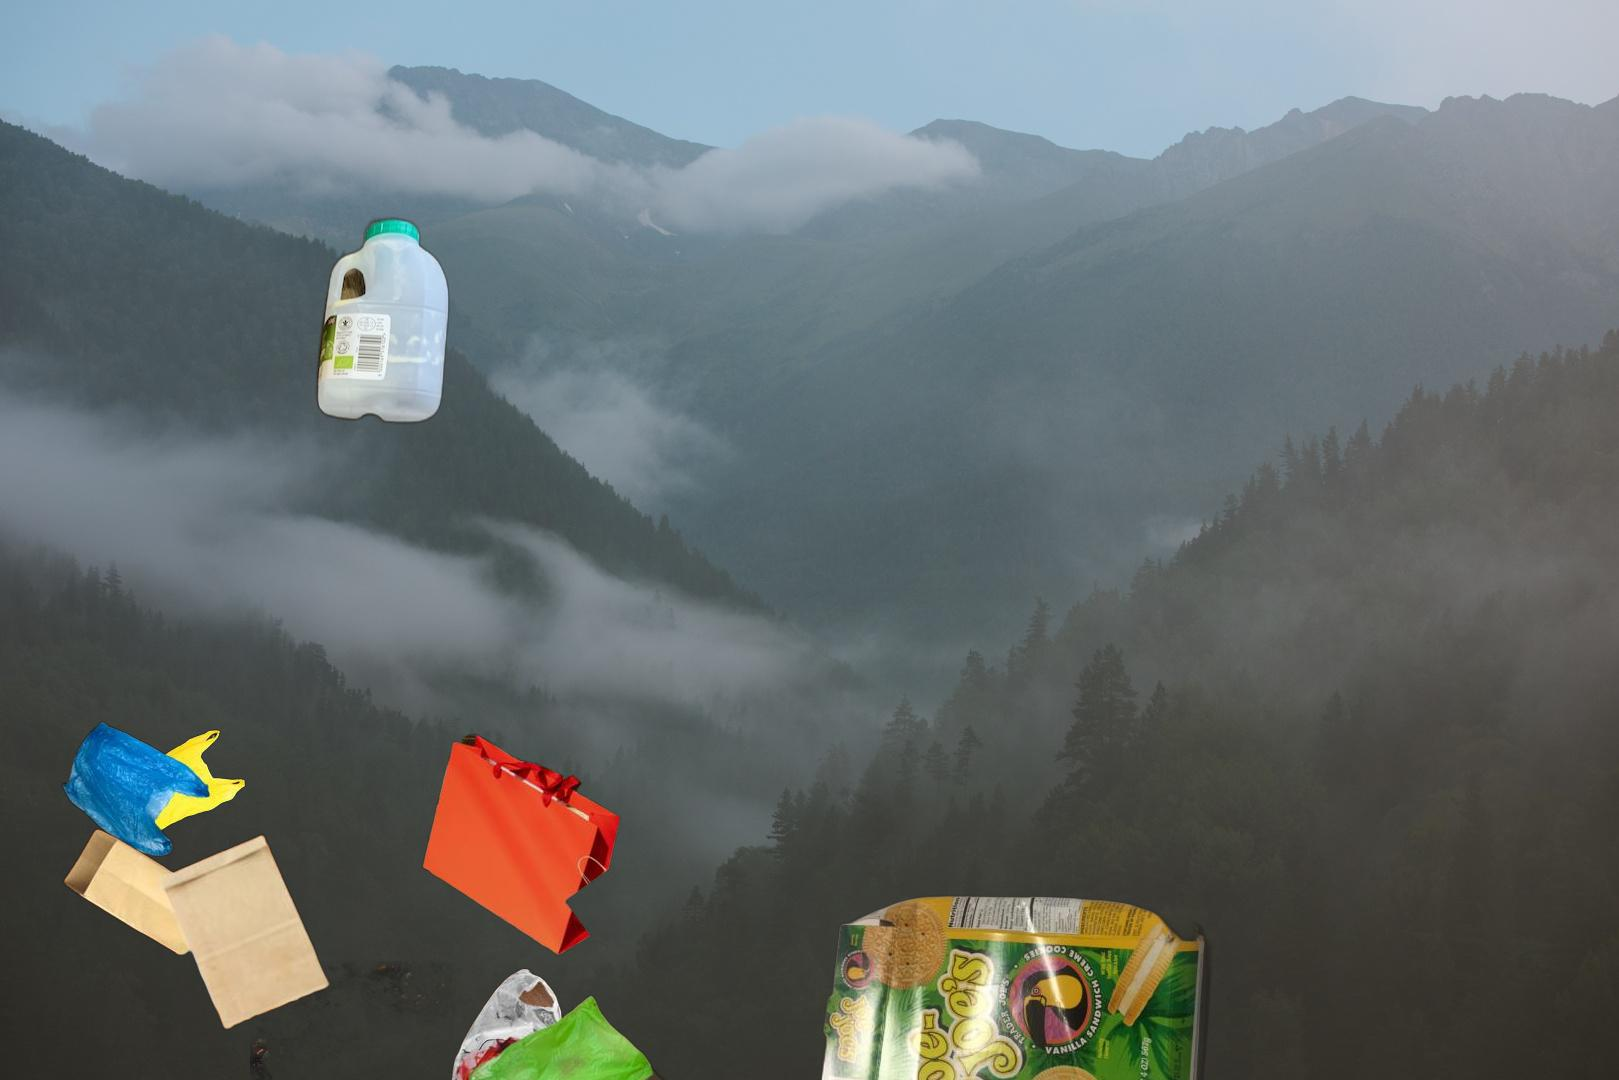biological: (250, 961, 526, 1080)
paper: (813, 893, 1215, 1080)
paper-bag: (61, 826, 332, 1032), (420, 732, 623, 958)
plastic-bag: (61, 600, 248, 859), (371, 925, 671, 1080)
plastic-bottles: (312, 189, 453, 429)
